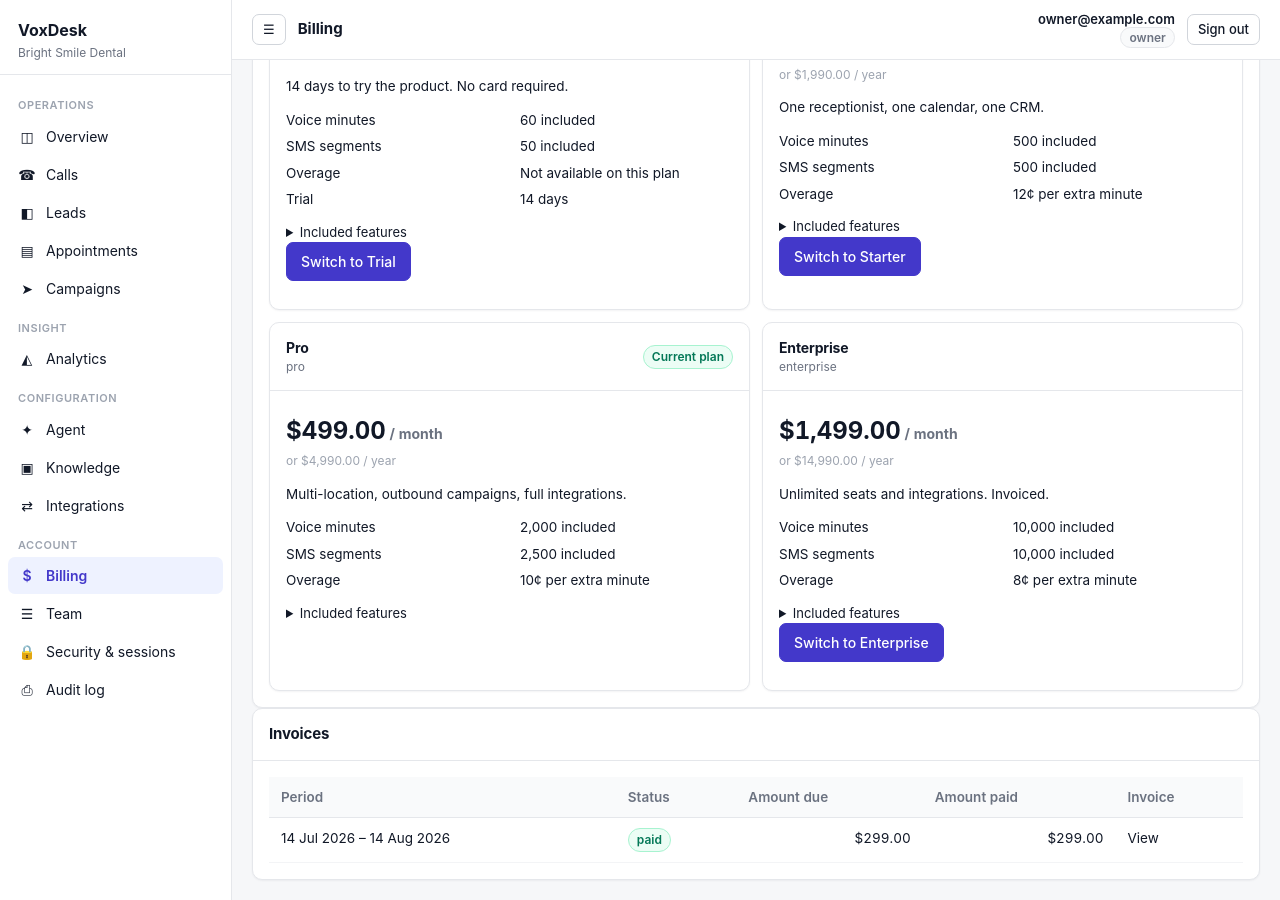
Scenario: plan catalogue › renders -1 entitlements as Unlimited
(page scrolled)
Click the heading "Included features" below "8¢ per extra minute". click: (846, 612)
box: [793,604,900,620]
(page scrolled)
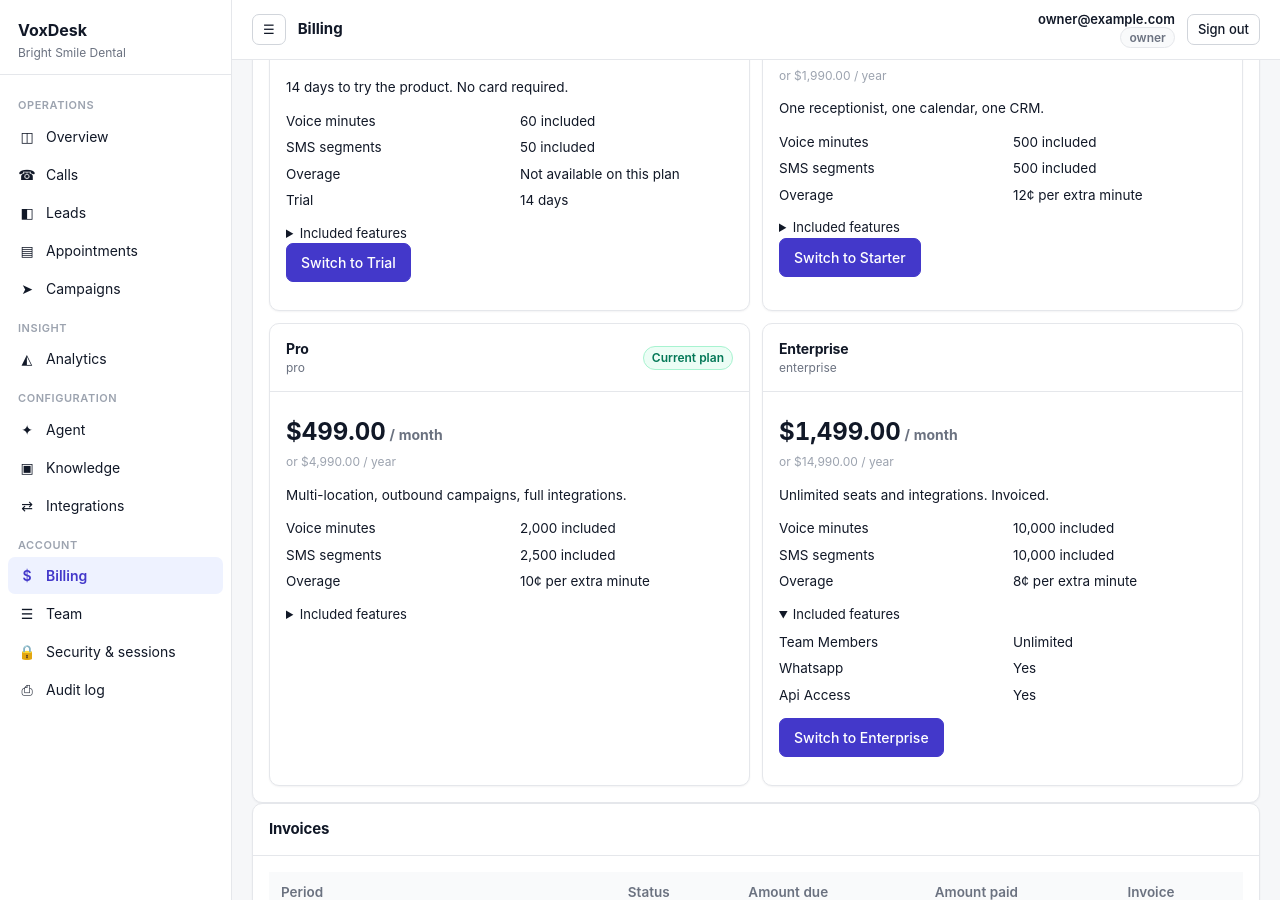
Now the text "Unlimited" is shown, box [1013,634,1073,650]
